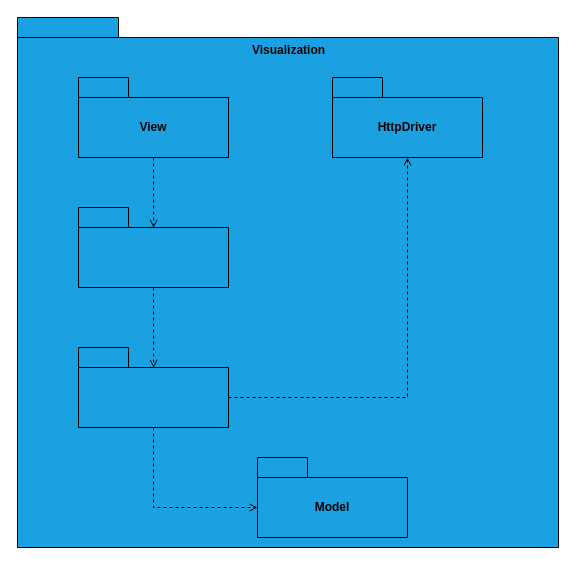
The diagram is 576 pixels wide and 565 high, and some of its shapes have lost their labels. Each missing label, with the centre of its shape:
Component: [153,247]
Service: [153,387]
